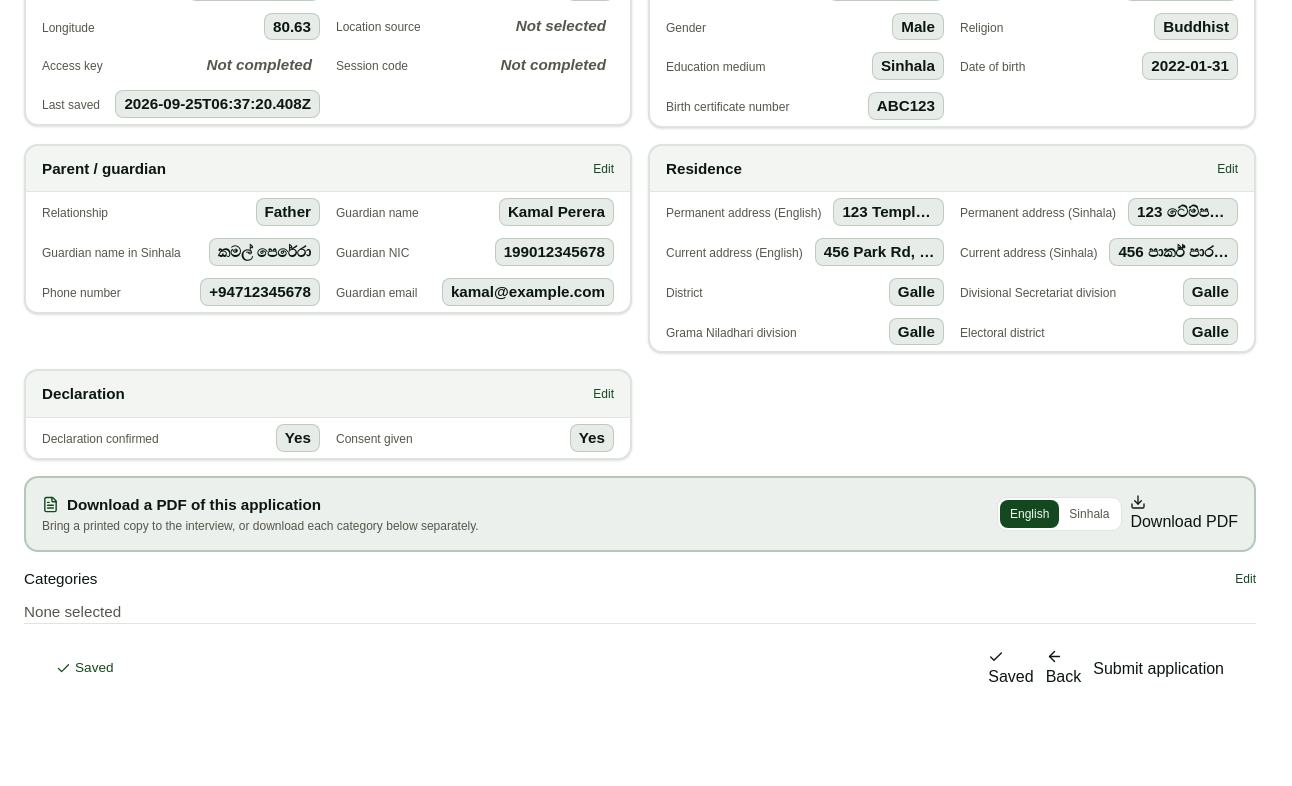
Test: Submit flow › submits and shows access key on success
(page scrolled)
Click the button "Submit application".
click(1159, 669)  # box [1093,648,1224,689]
(page scrolled)
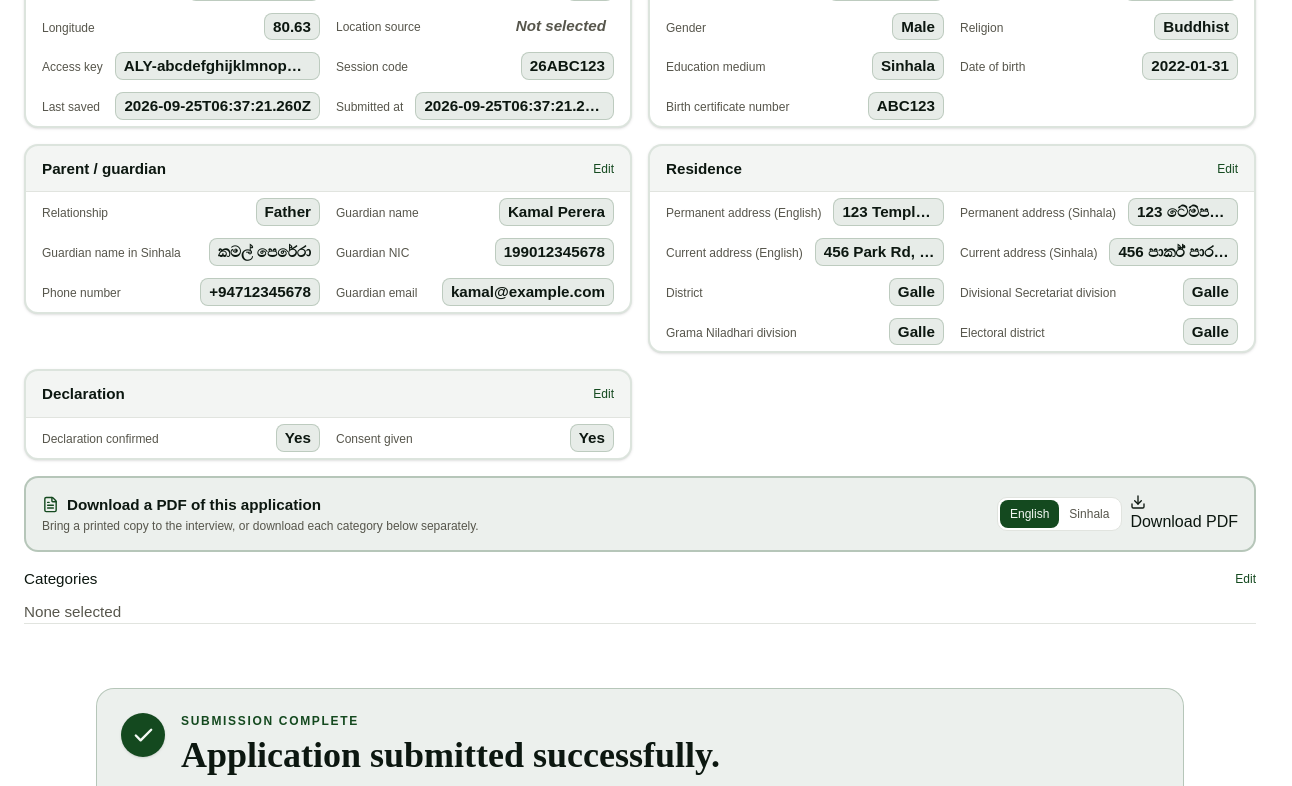
Result: the text "Application submitted successfully." is shown at [181,733,755,778]
